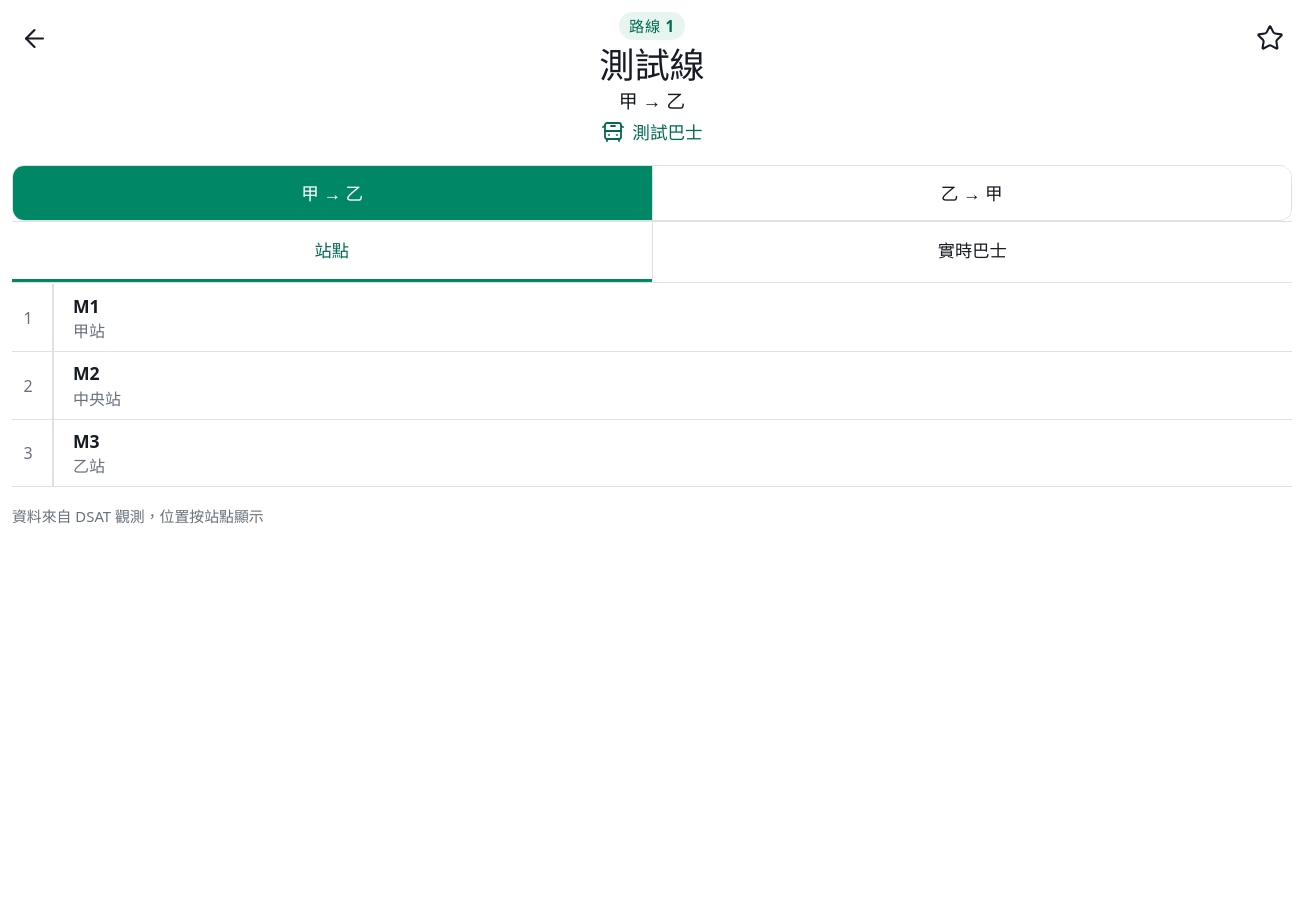
Test case: RoutePage › fetches and renders the masked development debug response only when enabled
The width and height of the screenshot is (1304, 912).
Click the tab "實時巴士": (972, 252) [652, 222, 1292, 282]
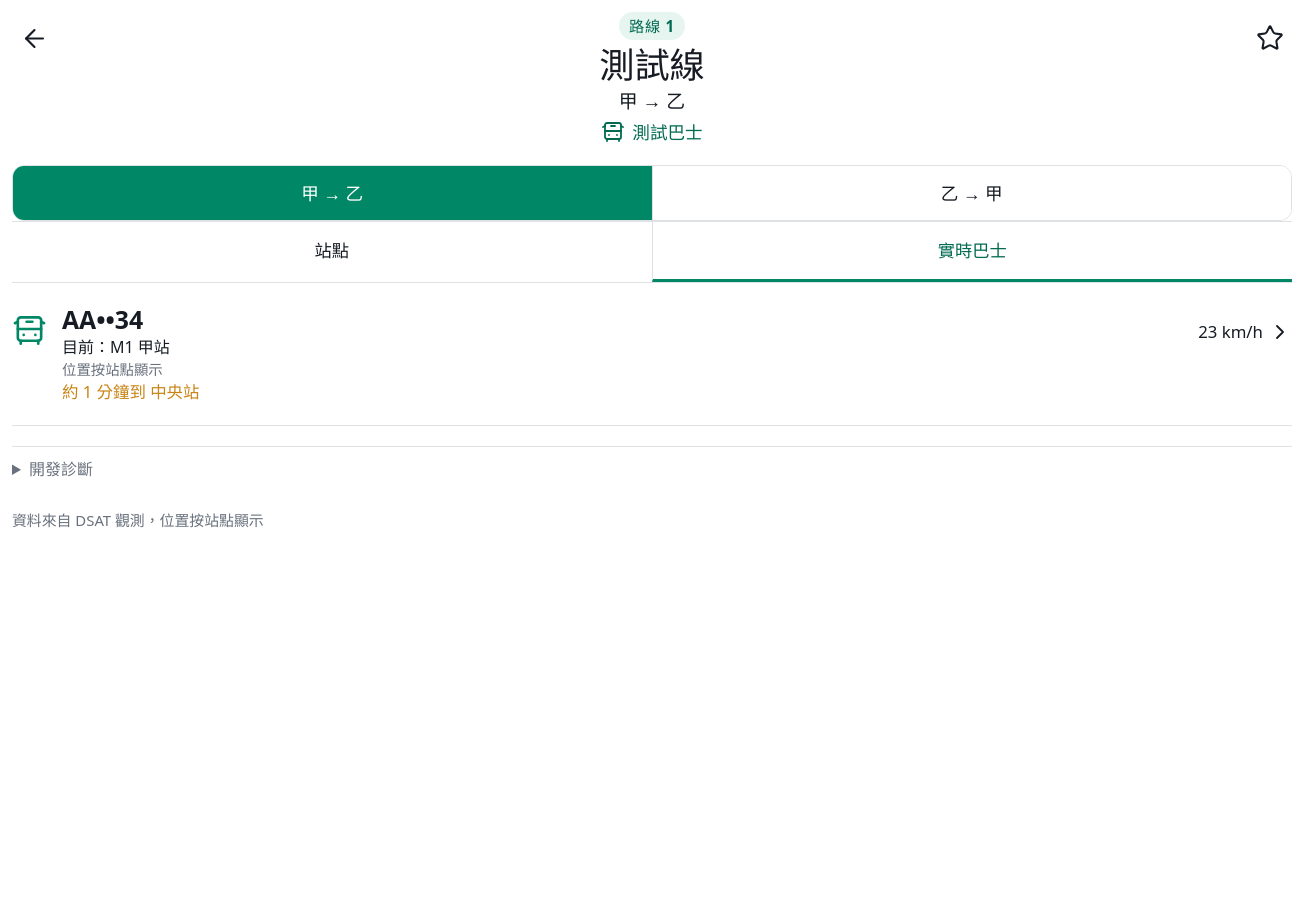
Click the heading "開發診斷": (61, 469) [29, 458, 93, 480]
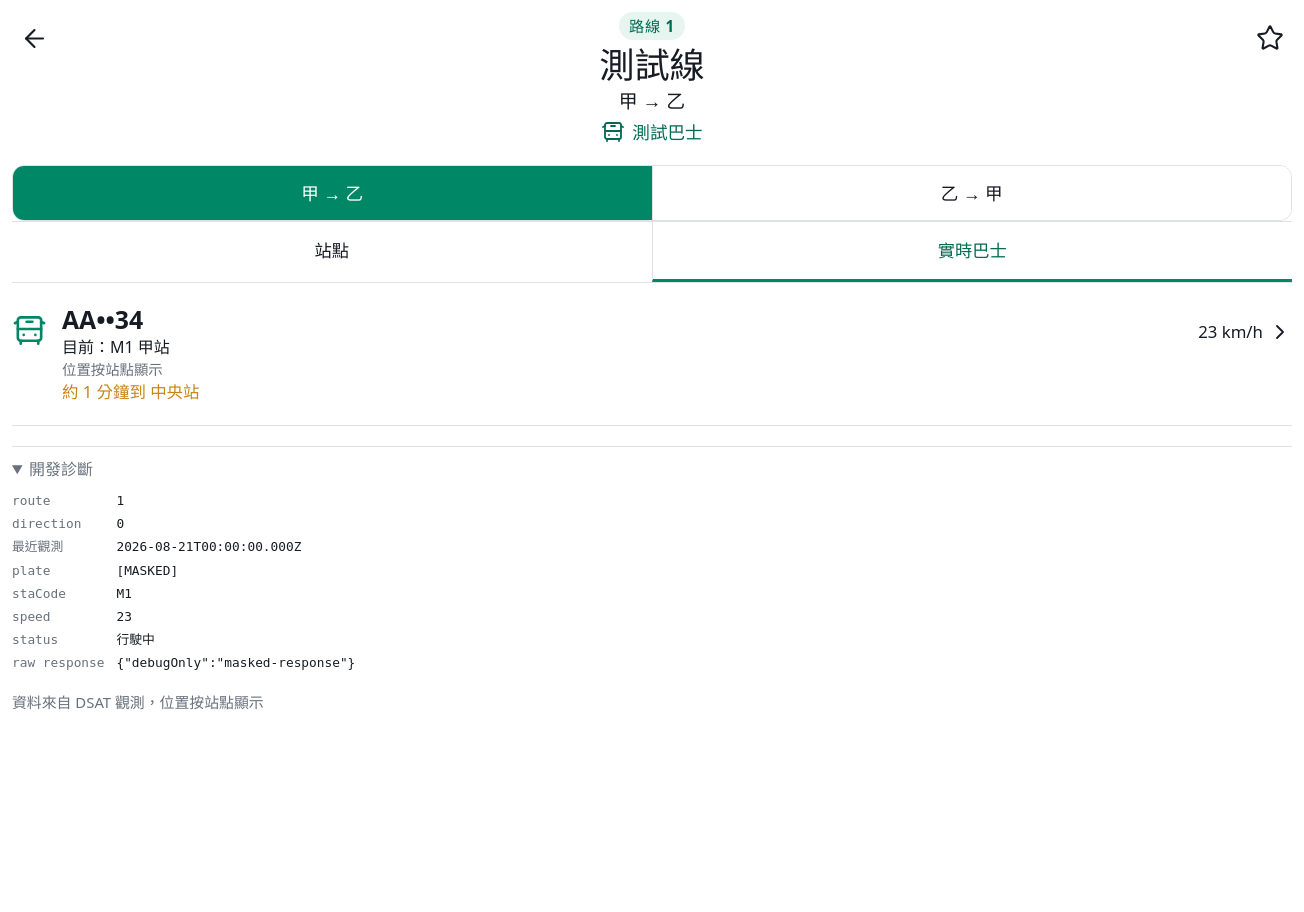
Check: the text "{\"debugOnly\":\"masked-response\"}" is shown, box [116, 655, 355, 670]
